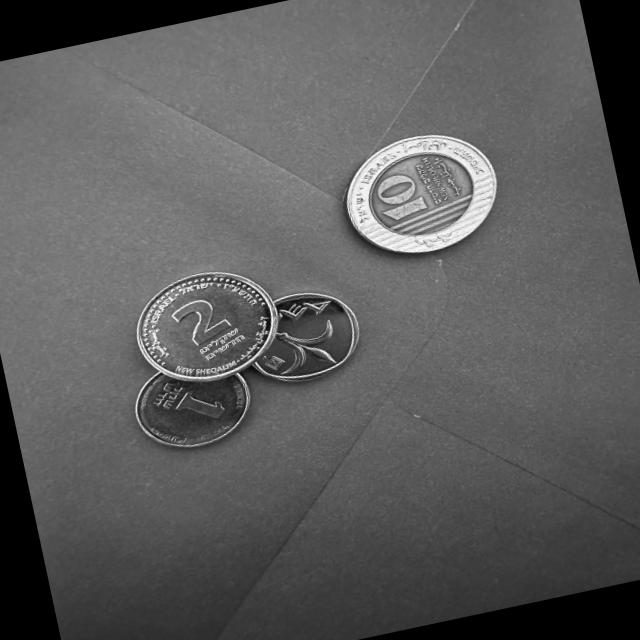1-shekel: (234, 279, 374, 395), (126, 354, 260, 459)
10-shekel: (333, 119, 509, 268)
2-shekel: (123, 260, 285, 395)
